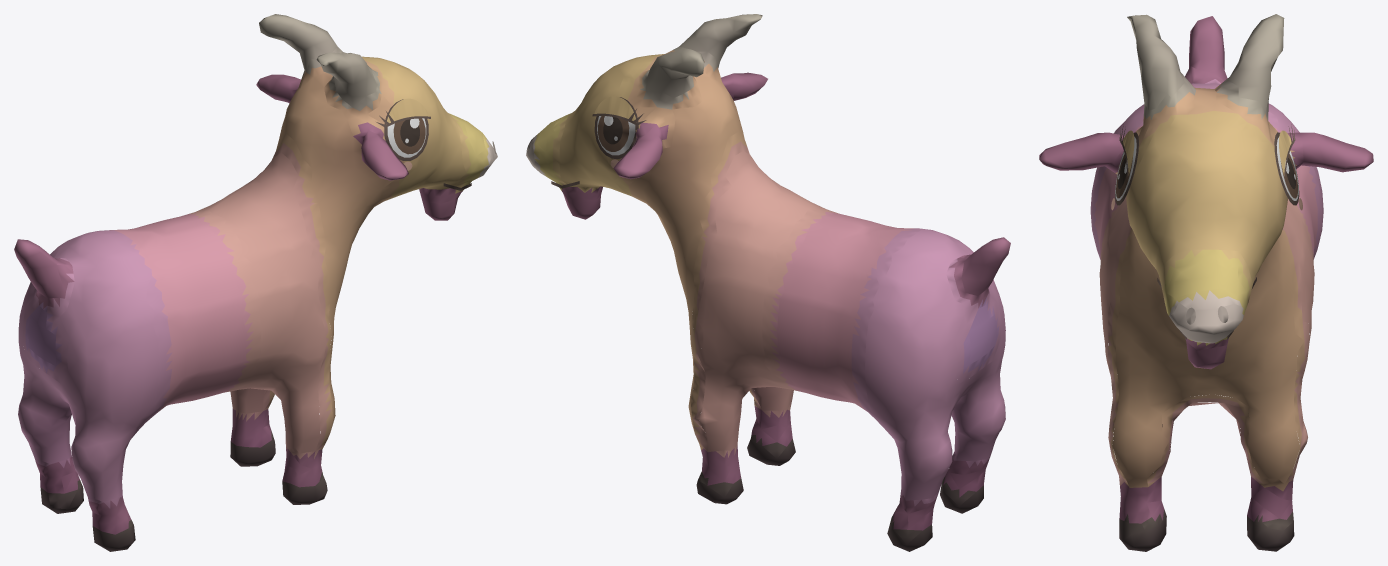
Rendered from sunset_goat.glb.
The picture shows the model from 3 angles, left to right: view 1: azimuth 30°, elevation 25°; view 2: azimuth 150°, elevation 25°; view 3: azimuth 270°, elevation 25°; orthographic projection. The views are drawn at different scales.
Visible parts, largest first — view 1: sunset_goat; view 2: sunset_goat; view 3: sunset_goat.
Part boxes in pixels (bbox=[...]): sunset_goat: bbox=[14, 14, 497, 551]; sunset_goat: bbox=[526, 14, 1010, 551]; sunset_goat: bbox=[1039, 14, 1373, 551].
Bounding box in the file's own units: 0.7864 × 0.6938 × 0.3877.
